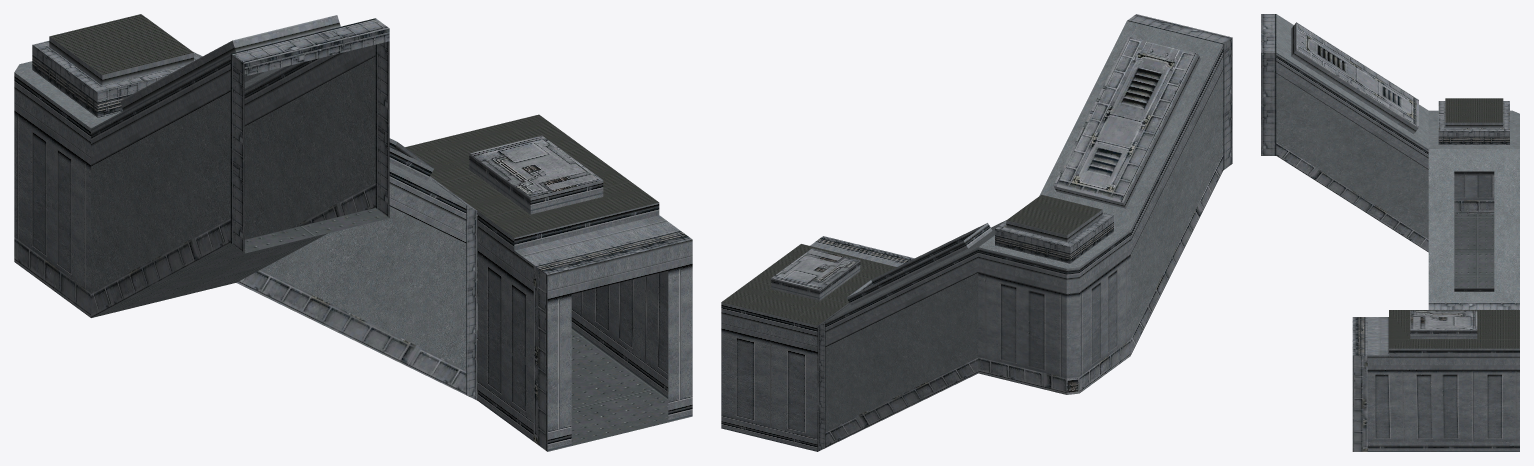
File: poi_all_impl_bunker_s02_r5_ramp2_mesh_r5.fbx
The picture shows the model from 3 angles, left to right: view 1: azimuth 30°, elevation 25°; view 2: azimuth 150°, elevation 25°; view 3: azimuth 270°, elevation 25°; orthographic projection. The views are drawn at different scales.
Visible parts, largest first — view 1: mesh_node; view 2: mesh_node; view 3: mesh_node.
Part boxes in pixels (x1,y1,x2,y2): mesh_node: [14, 14, 692, 451]; mesh_node: [721, 14, 1232, 451]; mesh_node: [1261, 14, 1519, 451].
Bounding box in the file's own units: 11 × 10.75 × 8.51.
